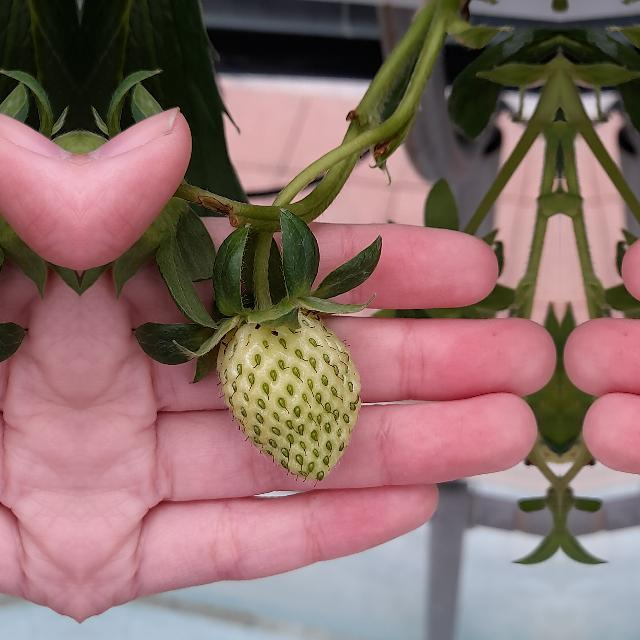Health_25: (216, 306, 360, 480)
